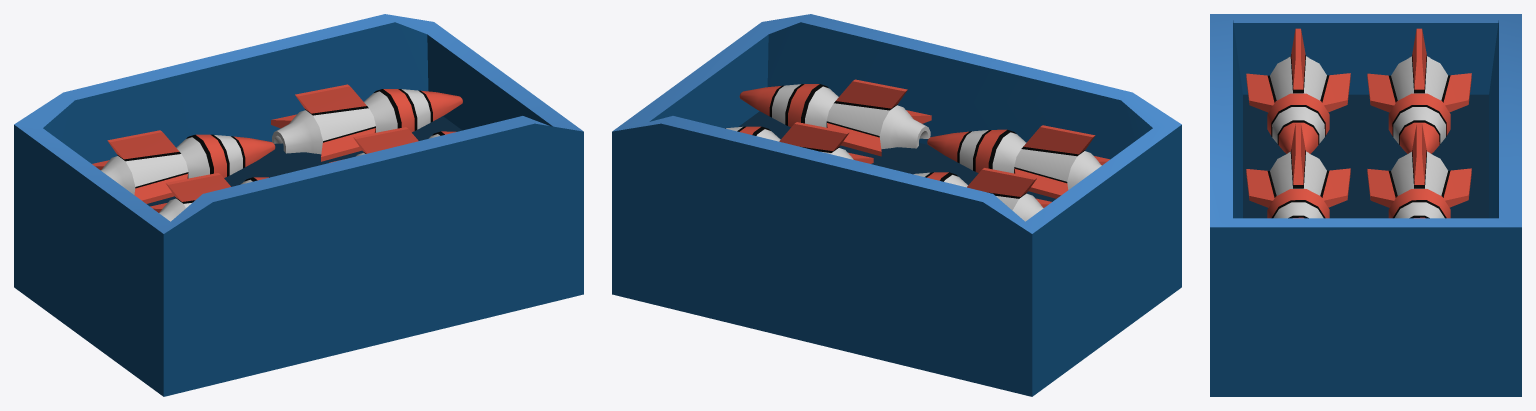
The model's file is Grenade-gun_Ammo.fbx.
3 views of the same model, side by side, from view 1: azimuth 30°, elevation 25°; view 2: azimuth 150°, elevation 25°; view 3: azimuth 270°, elevation 25° (orthographic). The views are drawn at different scales.
Parts seen in each view (by area): view 1: Grenade-gun_Ammo; view 2: Grenade-gun_Ammo; view 3: Grenade-gun_Ammo.
Boxes of the visible parts, x1,y1,x2,y2 form: Grenade-gun_Ammo: (14, 14, 583, 396); Grenade-gun_Ammo: (612, 14, 1181, 396); Grenade-gun_Ammo: (1210, 14, 1521, 396).
Size of the model in its own units: 1.62 by 0.6736 by 1.
